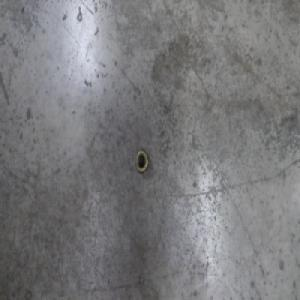Nut: (135, 149, 149, 176)
